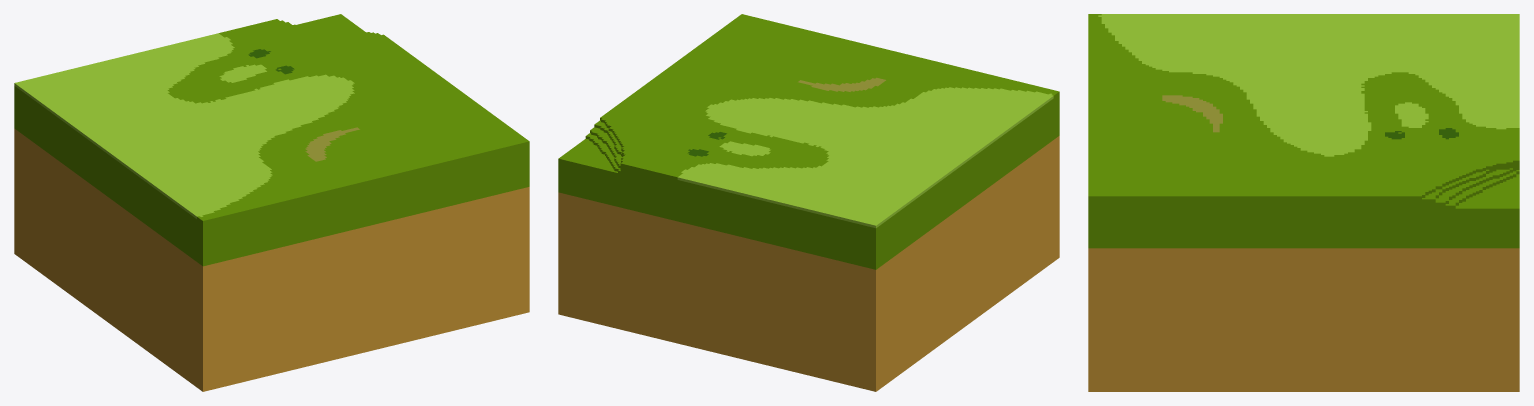
The picture shows the model from 3 angles, left to right: view 1: azimuth 30°, elevation 25°; view 2: azimuth 150°, elevation 25°; view 3: azimuth 270°, elevation 25°; orthographic projection. The views are drawn at different scales.
Visible parts, largest first — view 1: 12F; view 2: 12F; view 3: 12F.
Boxes of the visible parts, box(x1,y1,x2,y2) form: 12F: box(14, 14, 529, 391); 12F: box(558, 14, 1059, 391); 12F: box(1088, 14, 1519, 391).
Size of the model in its own units: 12.8 by 6.4 by 12.8.
1 material, 1 textured.
